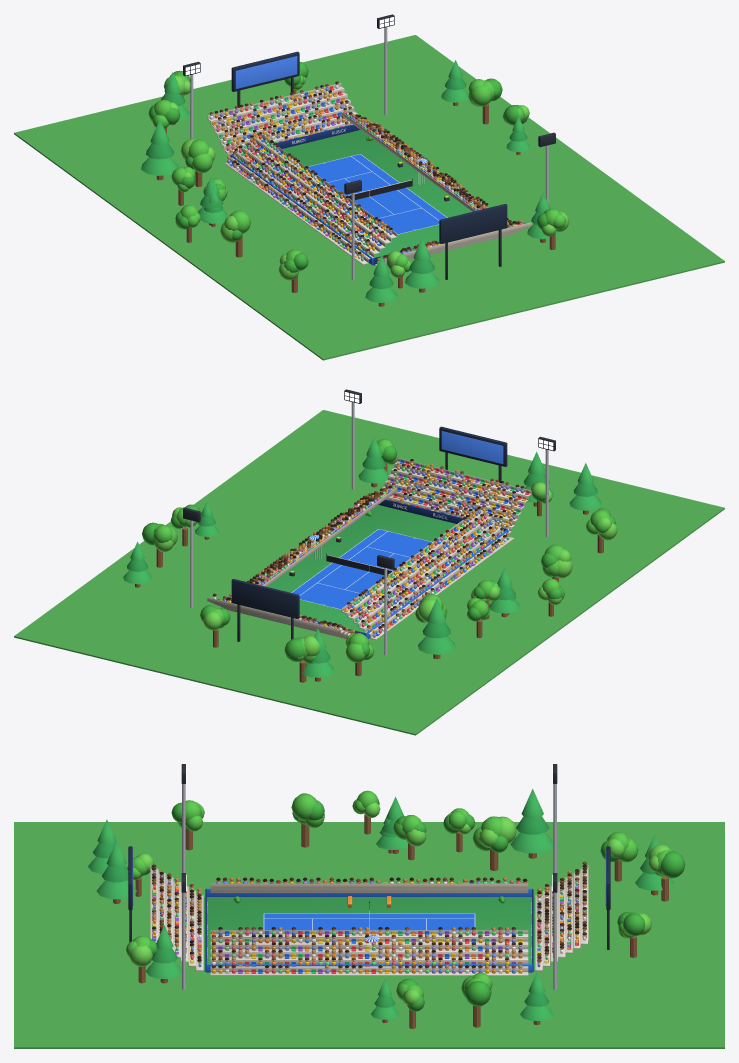
The model's file is tennis_court.glb.
The picture shows the model from 3 angles, top to bottom: view 1: azimuth 30°, elevation 25°; view 2: azimuth 150°, elevation 25°; view 3: azimuth 270°, elevation 25°; orthographic projection. The views are drawn at different scales.
Visible parts, largest first — view 1: tennis_stadium, stand_side_-1, stand_side_1; view 2: tennis_stadium, stand_side_-1, stand_side_1; view 3: tennis_stadium, stand_side_1, stand_side_-1.
Boxes of the visible parts, box(x1,y1,x2,y2) form: tennis_stadium: box(14, 14, 724, 360); stand_side_-1: box(224, 132, 397, 264); stand_side_1: box(341, 112, 511, 224); tennis_stadium: box(14, 389, 724, 735); stand_side_-1: box(341, 506, 514, 639); stand_side_1: box(229, 485, 397, 597); tennis_stadium: box(14, 764, 724, 1048); stand_side_1: box(210, 927, 528, 975); stand_side_-1: box(210, 877, 528, 892).
Size of the model in its own units: 60 by 14.1 by 80.
